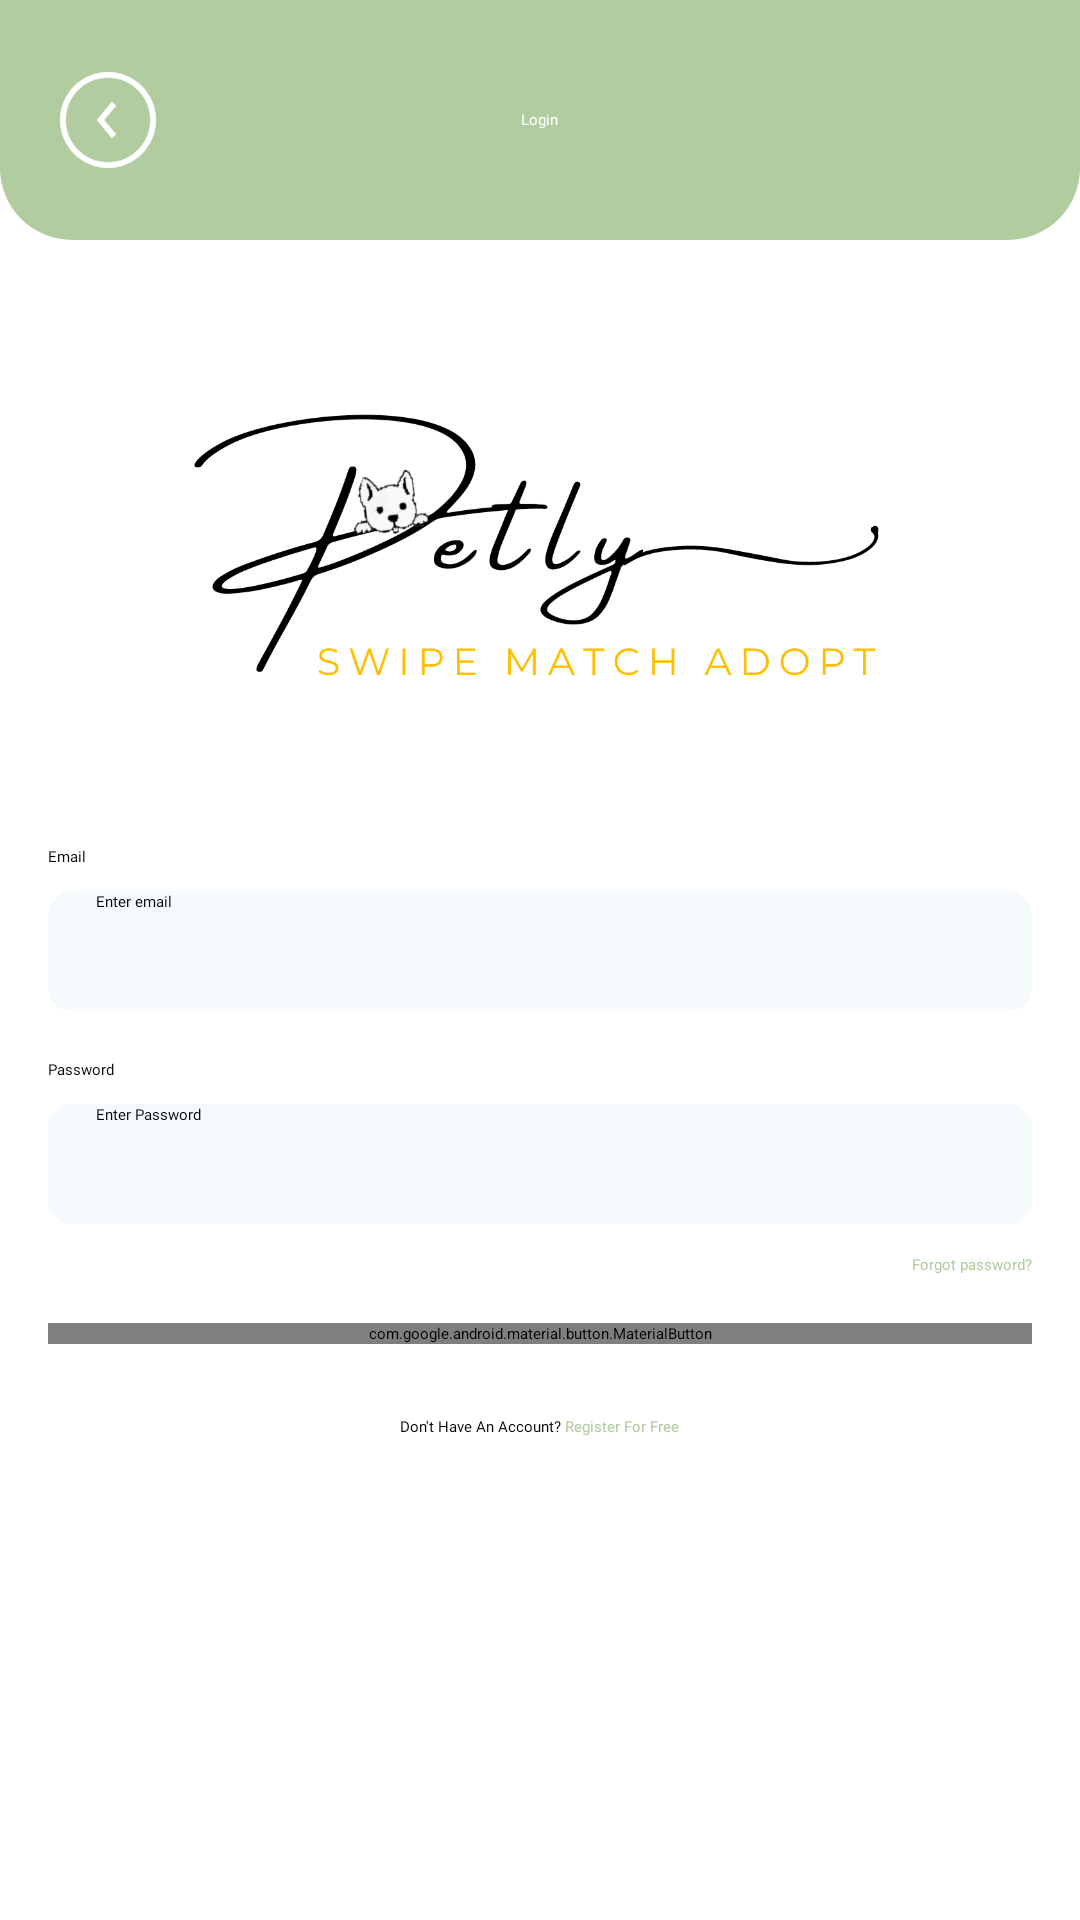

Where icons sit on this 1080x1920 app screen, as {"left": x1, "top": y1, "right": x2, "bottom": y2}:
back: {"left": 60, "top": 72, "right": 156, "bottom": 168}
